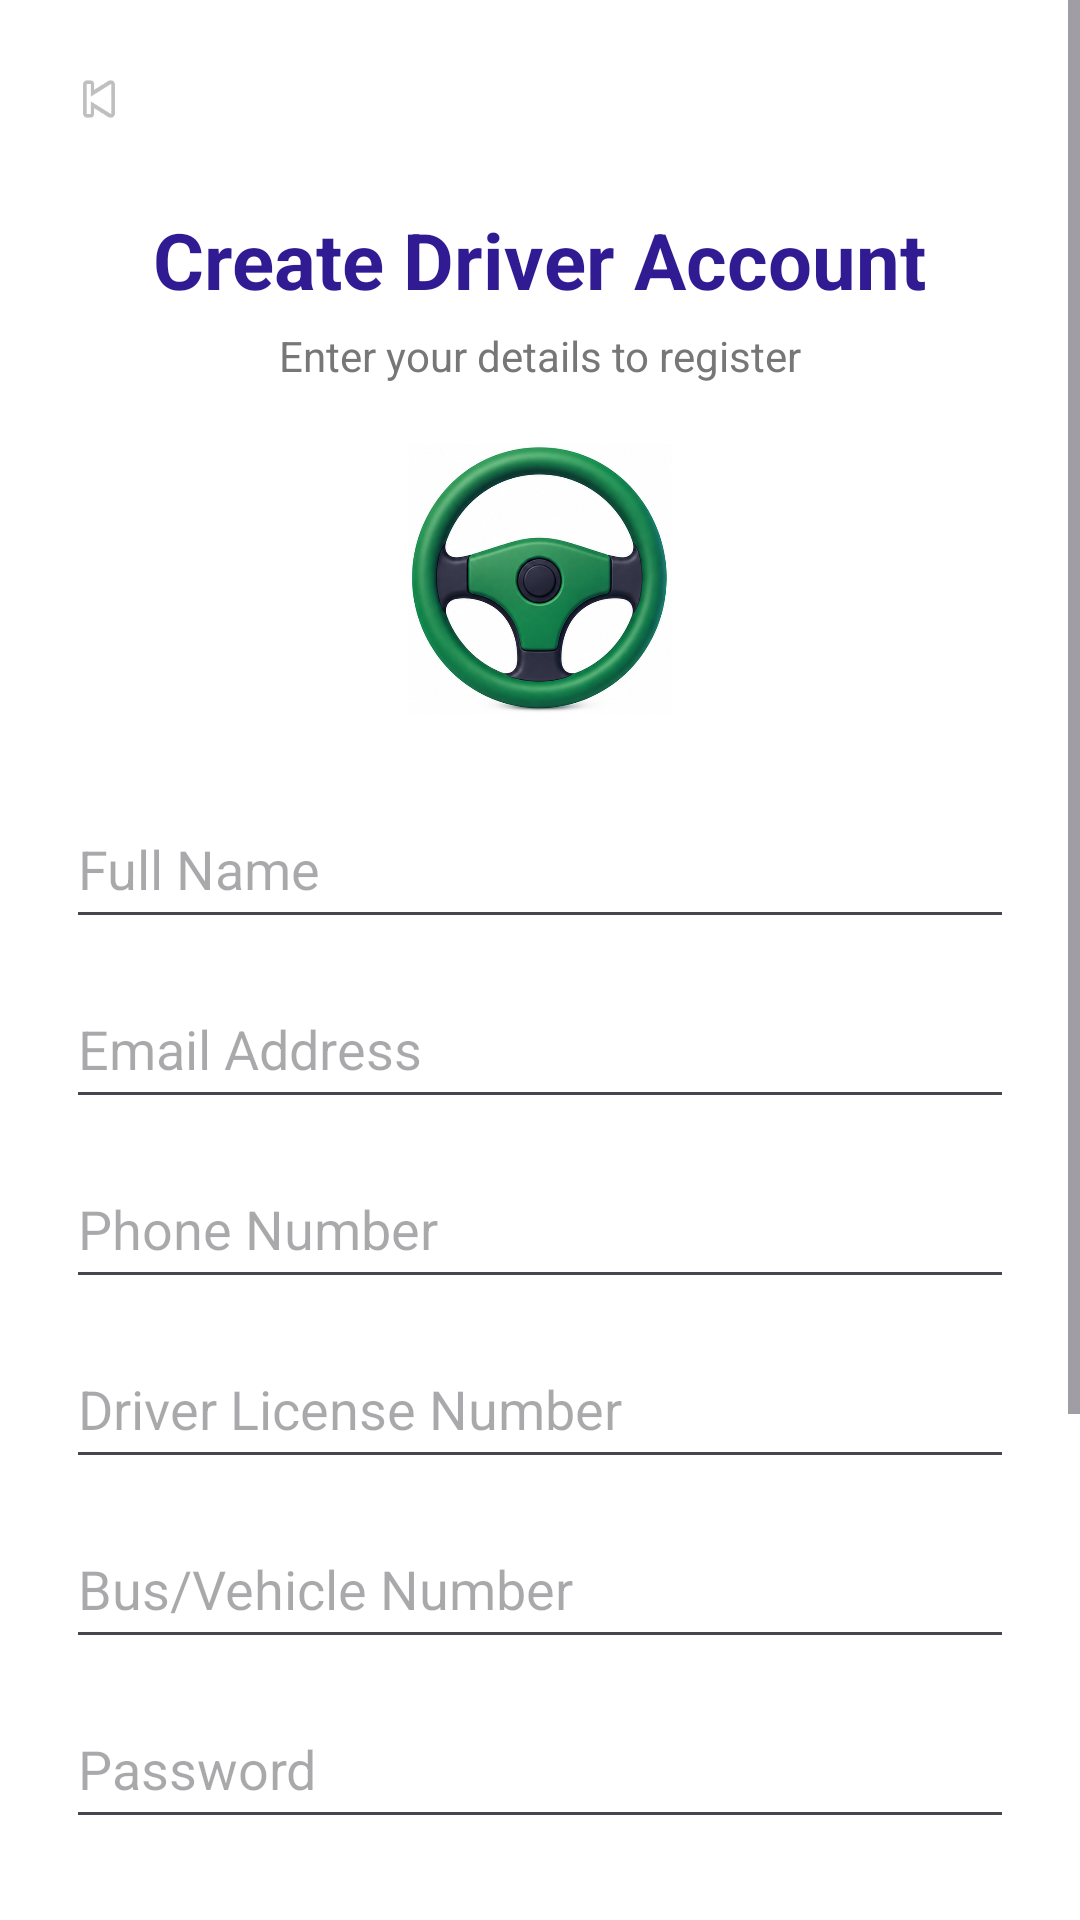

Named icons in this screenshot (1080x1920) and their bounding boxes, (x1=x1, y1=y1, x2=x2, y2=y2):
previous: (x1=83, y1=80, x2=115, y2=118)
